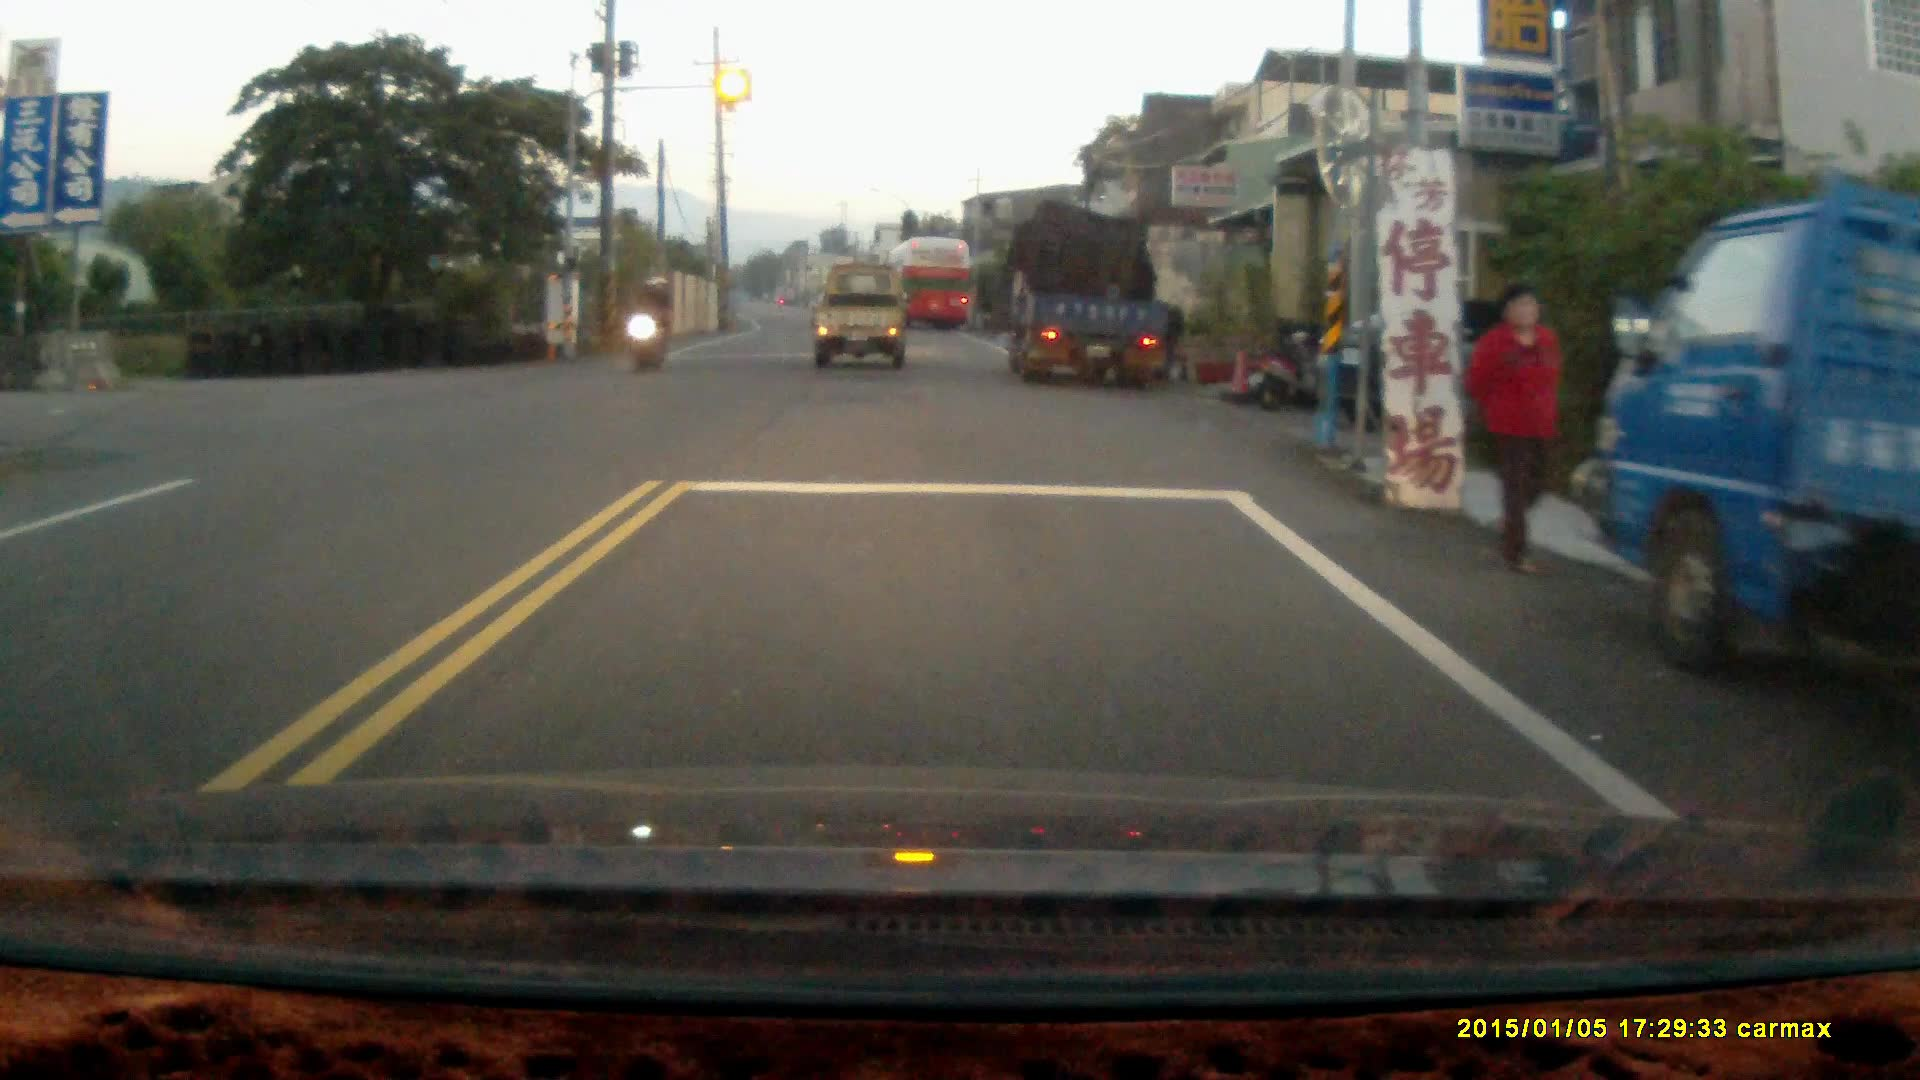pedestrian: (1463, 278, 1564, 575)
rider: (621, 277, 668, 374)
vehicle: (1589, 186, 1919, 626), (1311, 287, 1601, 437), (996, 201, 1175, 388), (808, 263, 904, 375), (882, 236, 974, 330)
